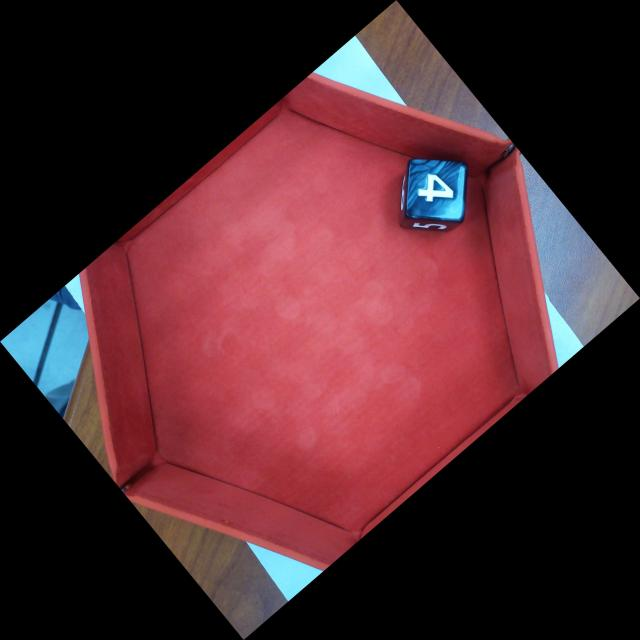dice: (405, 156, 469, 223)
